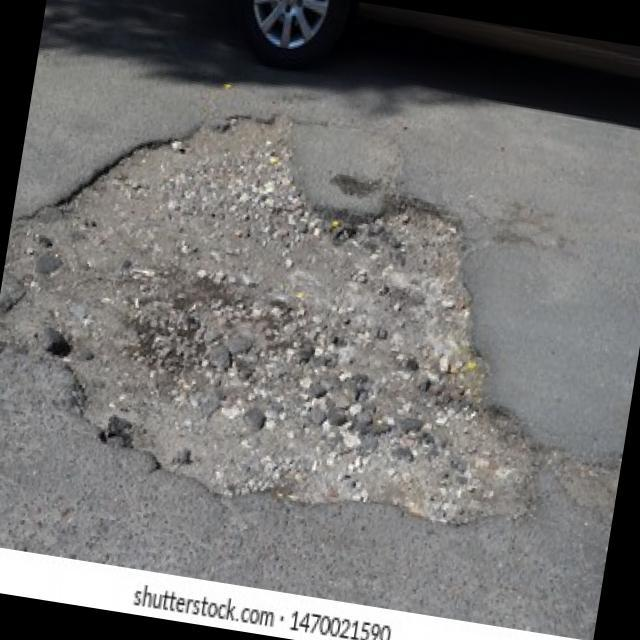Pothole: (0, 73, 590, 543)
